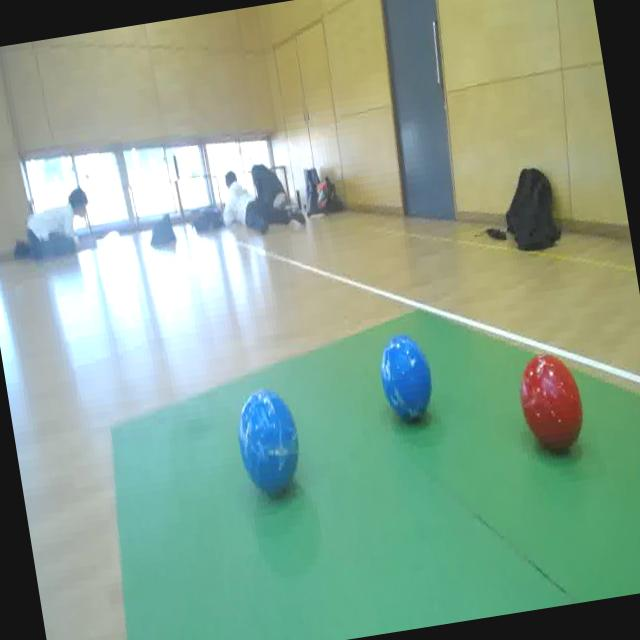blue_ball: (231, 382, 307, 501), (375, 328, 439, 430)
red_ball: (511, 346, 591, 459)
